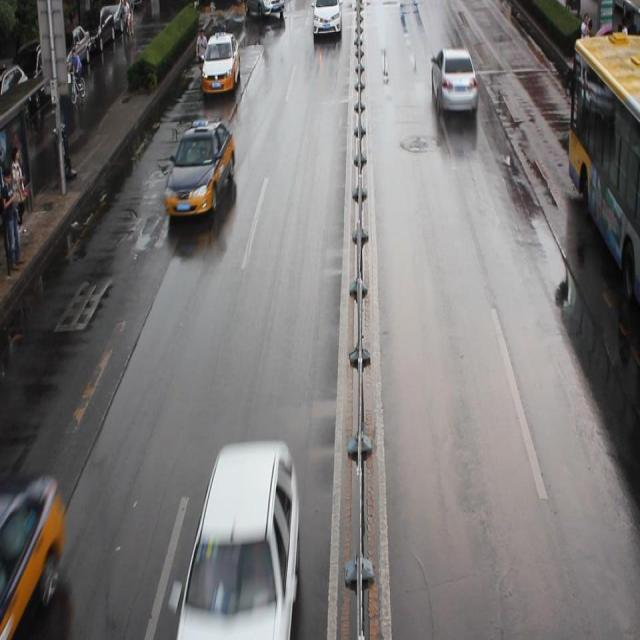car: (175, 436, 300, 640), (0, 470, 67, 640), (165, 120, 235, 215), (431, 45, 477, 115), (201, 29, 241, 94), (312, 1, 341, 37), (244, 1, 284, 20)
van: (566, 29, 640, 308)
